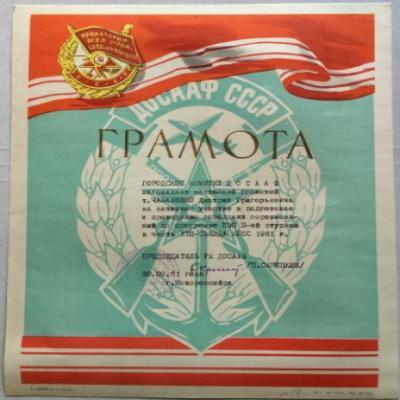document: (11, 6, 394, 397)
